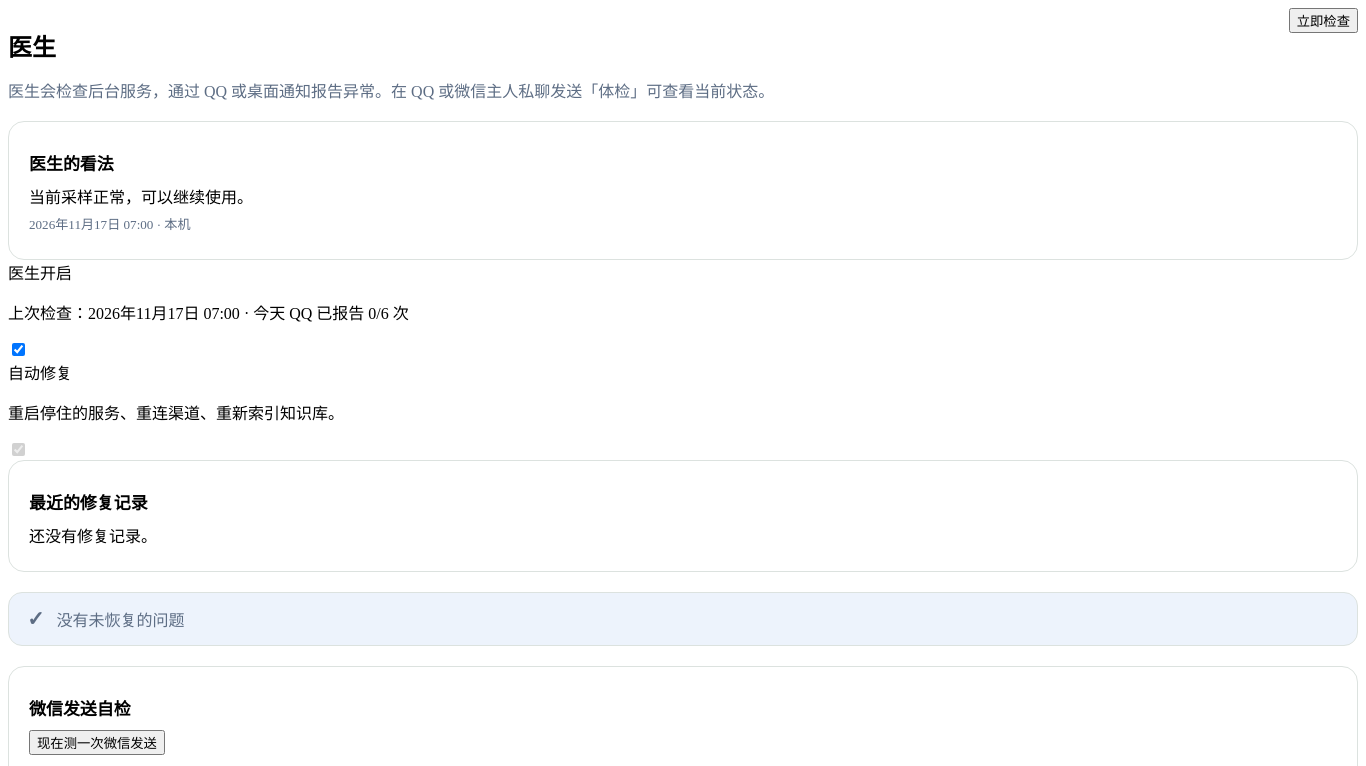
shows the diagnosis, database stage and pass rate, invoking only the manual self-test button
expect the text "当前采样正常，可以继续使用。" is shown: met, box [29,189,253,206]
What coordinates should you click on to do the following:
click the button "现在测一次微信发送"
I would click on:
 (97, 742)
Its box is [29,730,165,755].
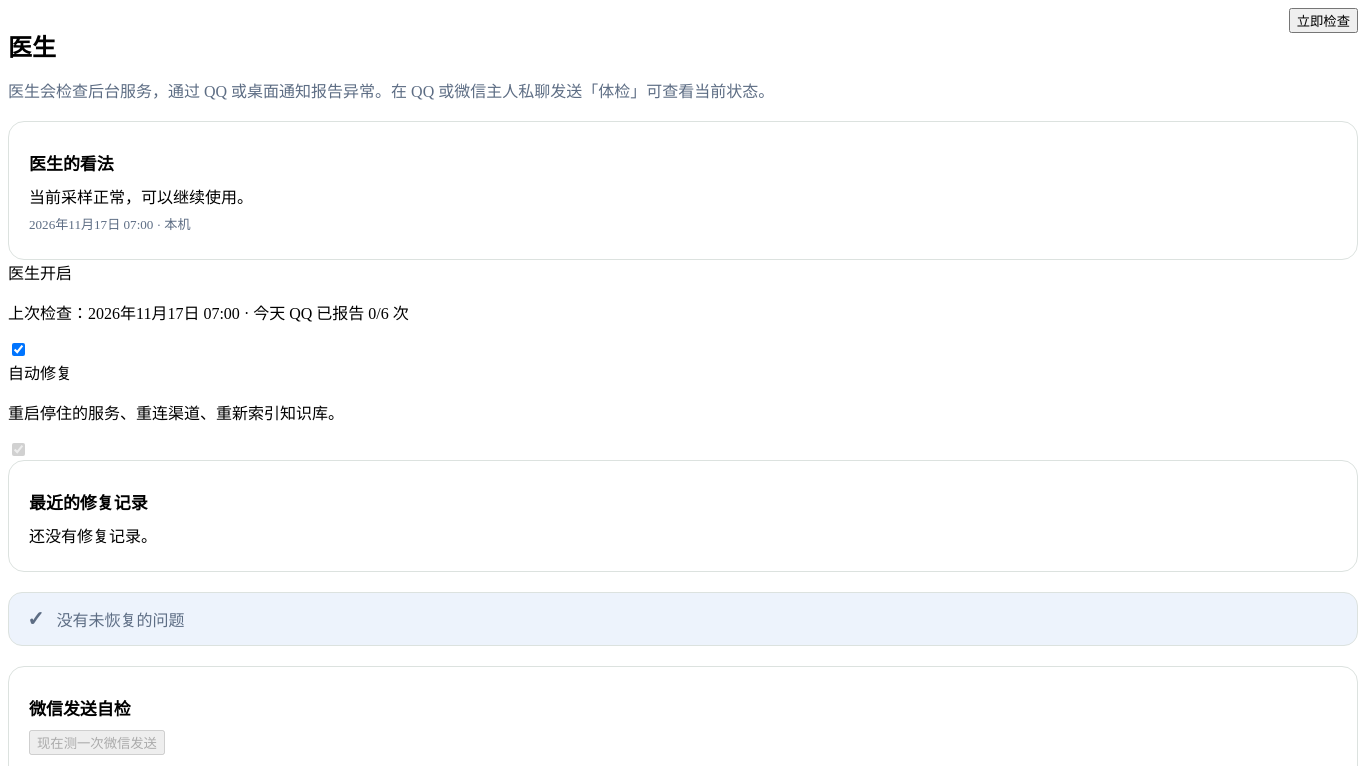
expect the button "现在测一次微信发送" is disabled: met, box [29,730,165,755]
